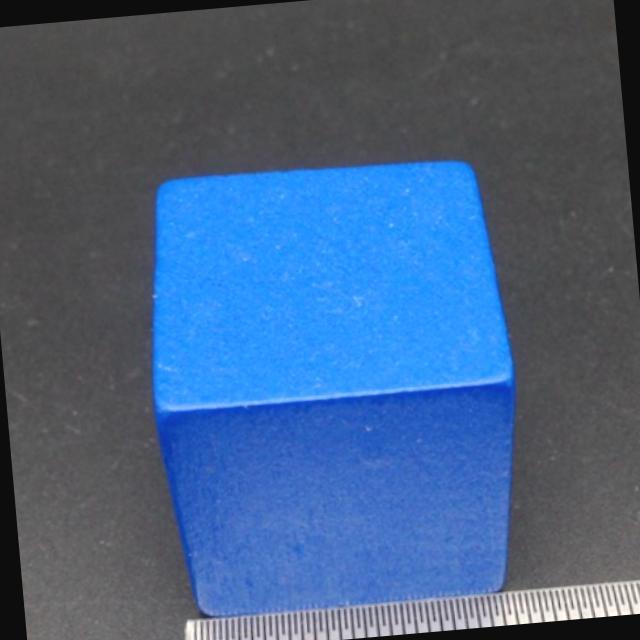bluecube: (150, 160, 517, 623)
